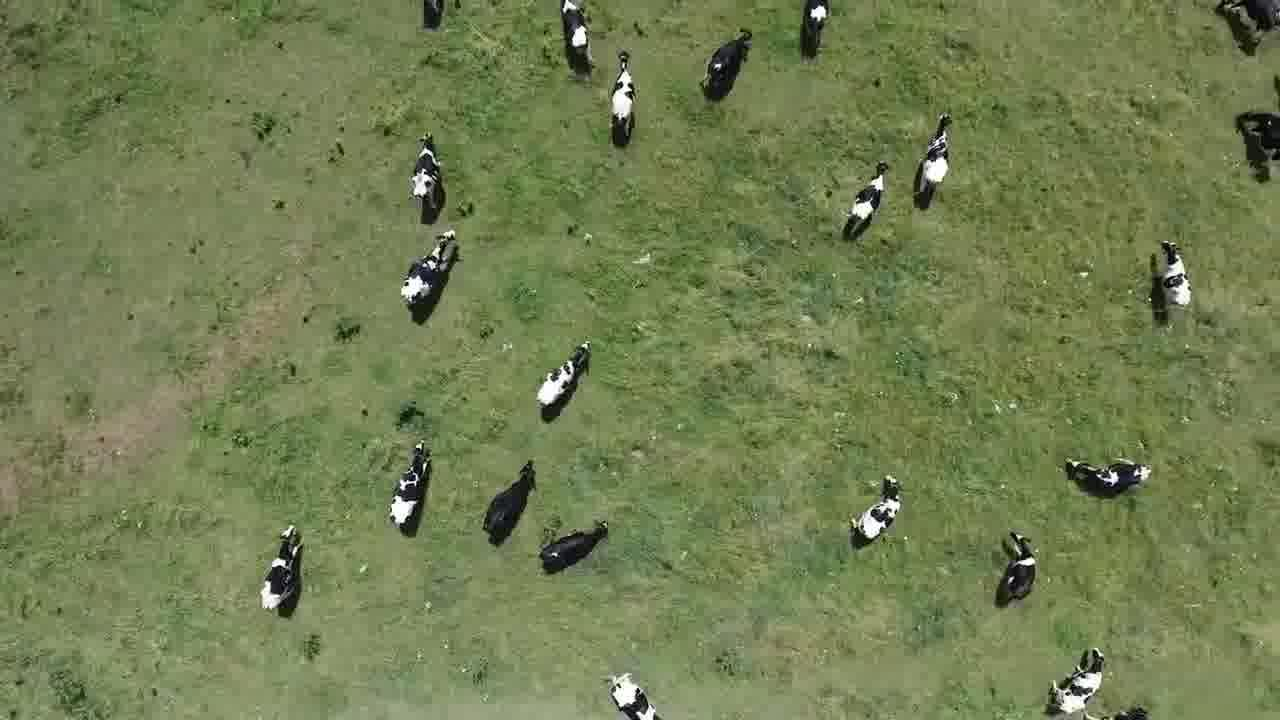cow: (395, 227, 460, 313), (480, 456, 539, 550), (533, 333, 597, 415), (385, 433, 437, 533), (838, 155, 895, 246), (536, 517, 617, 579), (259, 519, 308, 616), (911, 108, 955, 211), (1048, 643, 1109, 715), (701, 25, 757, 103), (847, 471, 902, 549), (1062, 453, 1157, 498), (1150, 238, 1197, 320), (407, 124, 443, 226), (995, 529, 1041, 608), (607, 45, 641, 151), (554, 0, 596, 77), (603, 668, 661, 720), (1236, 104, 1280, 163), (796, 0, 834, 63)
